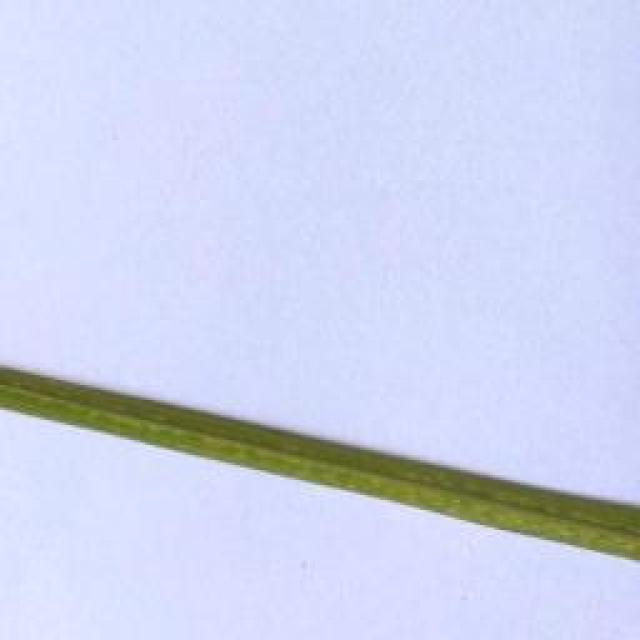Healthy-Plant: (0, 357, 640, 558)
